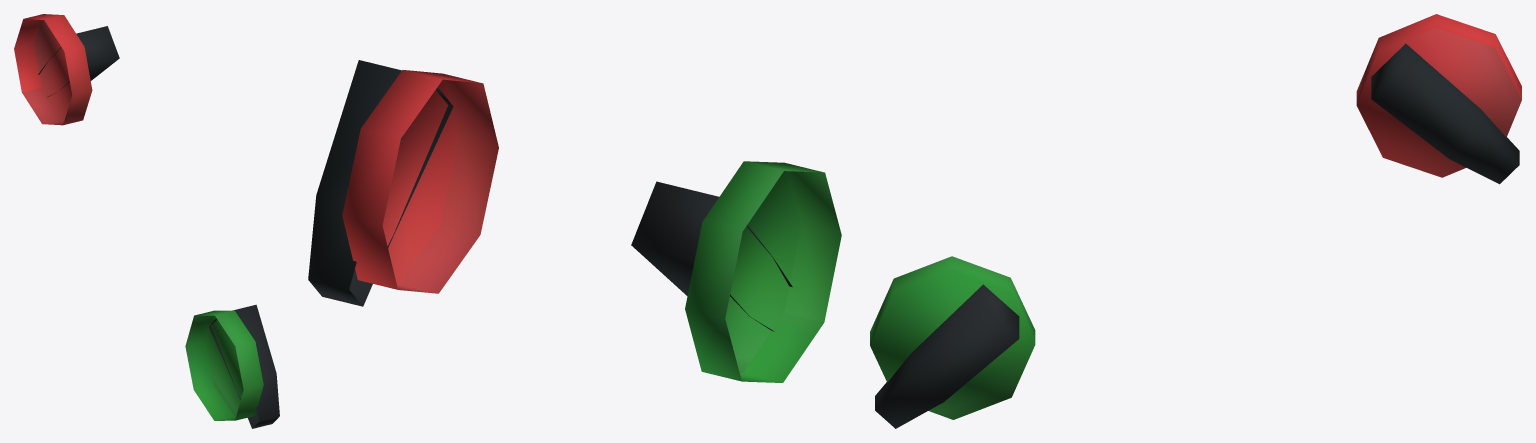
File: cell_cevirmeli_k-y.fbx
The picture shows the model from 3 angles, left to right: view 1: azimuth 30°, elevation 25°; view 2: azimuth 150°, elevation 25°; view 3: azimuth 270°, elevation 25°; orthographic projection. The views are drawn at different scales.
Parts seen in each view (by area): view 1: cell_cevirmeli_y, cell_cevirmeli_k; view 2: cell_cevirmeli_k, cell_cevirmeli_y; view 3: cell_cevirmeli_k, cell_cevirmeli_y.
Boxes of the visible parts, <box> form: cell_cevirmeli_y: <box>185,304,279,428</box>; cell_cevirmeli_k: <box>14,14,119,125</box>; cell_cevirmeli_k: <box>308,60,498,306</box>; cell_cevirmeli_y: <box>631,161,841,382</box>; cell_cevirmeli_k: <box>1356,14,1521,184</box>; cell_cevirmeli_y: <box>870,256,1035,428</box>.
Bounding box in the file's own units: 65.01 × 325 × 490.
